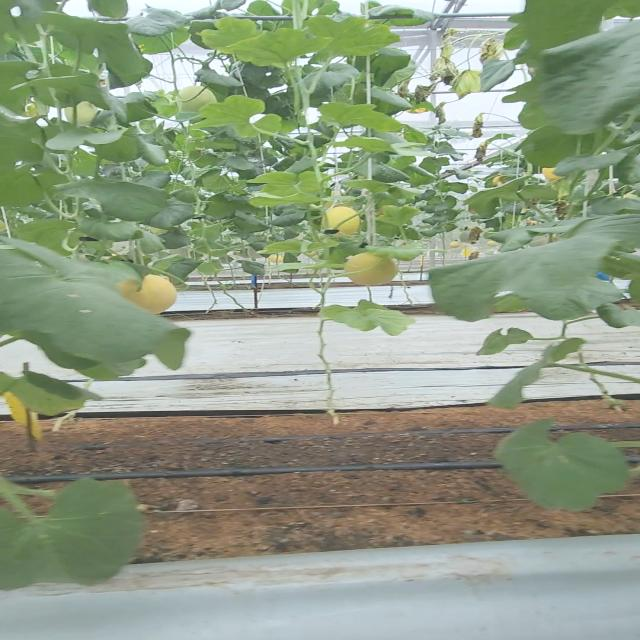Rear-melon: (344, 255, 399, 286)
